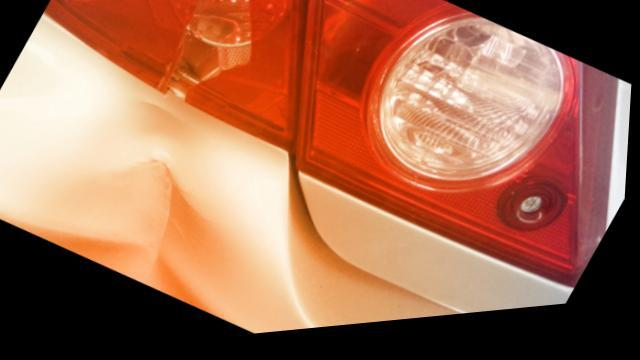dent: (72, 111, 227, 308)
lamp broken: (44, 0, 307, 161)
